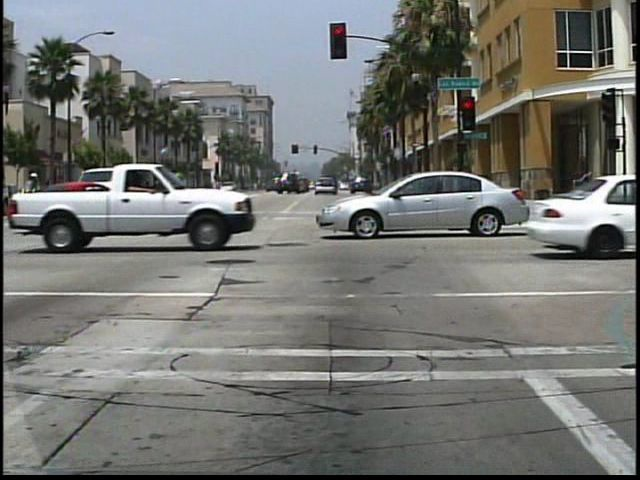person: (22, 168, 47, 221)
